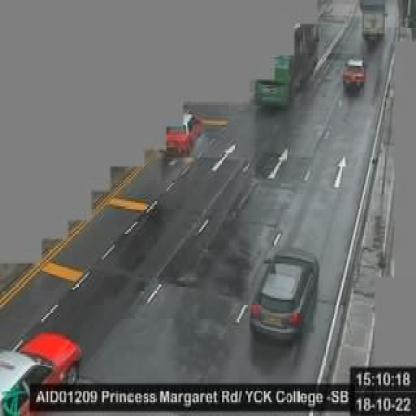Car: (1, 328, 87, 414), (249, 252, 319, 345), (342, 51, 370, 94)
Truck: (360, 0, 388, 46)
